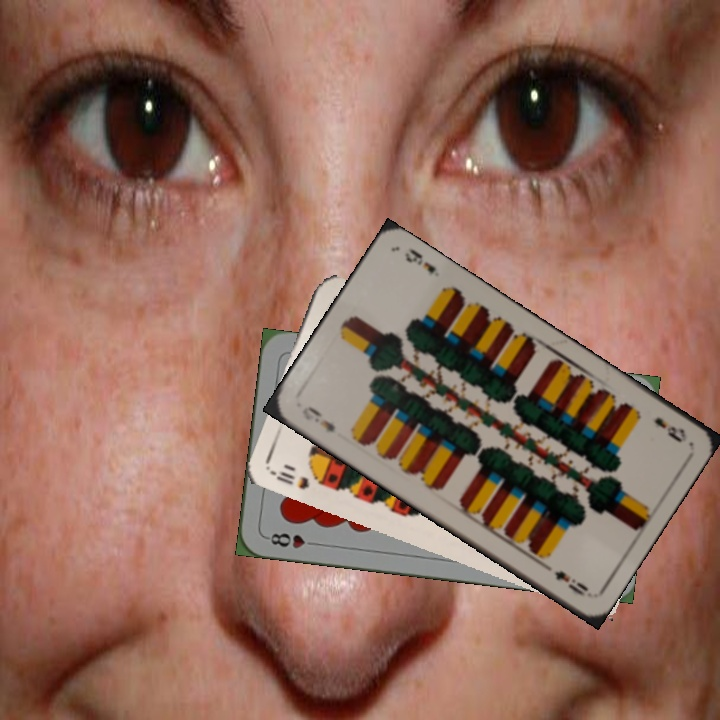E9: (298, 402, 338, 435), (650, 413, 690, 445)
H8: (262, 529, 321, 551)
S10: (268, 467, 328, 492)
